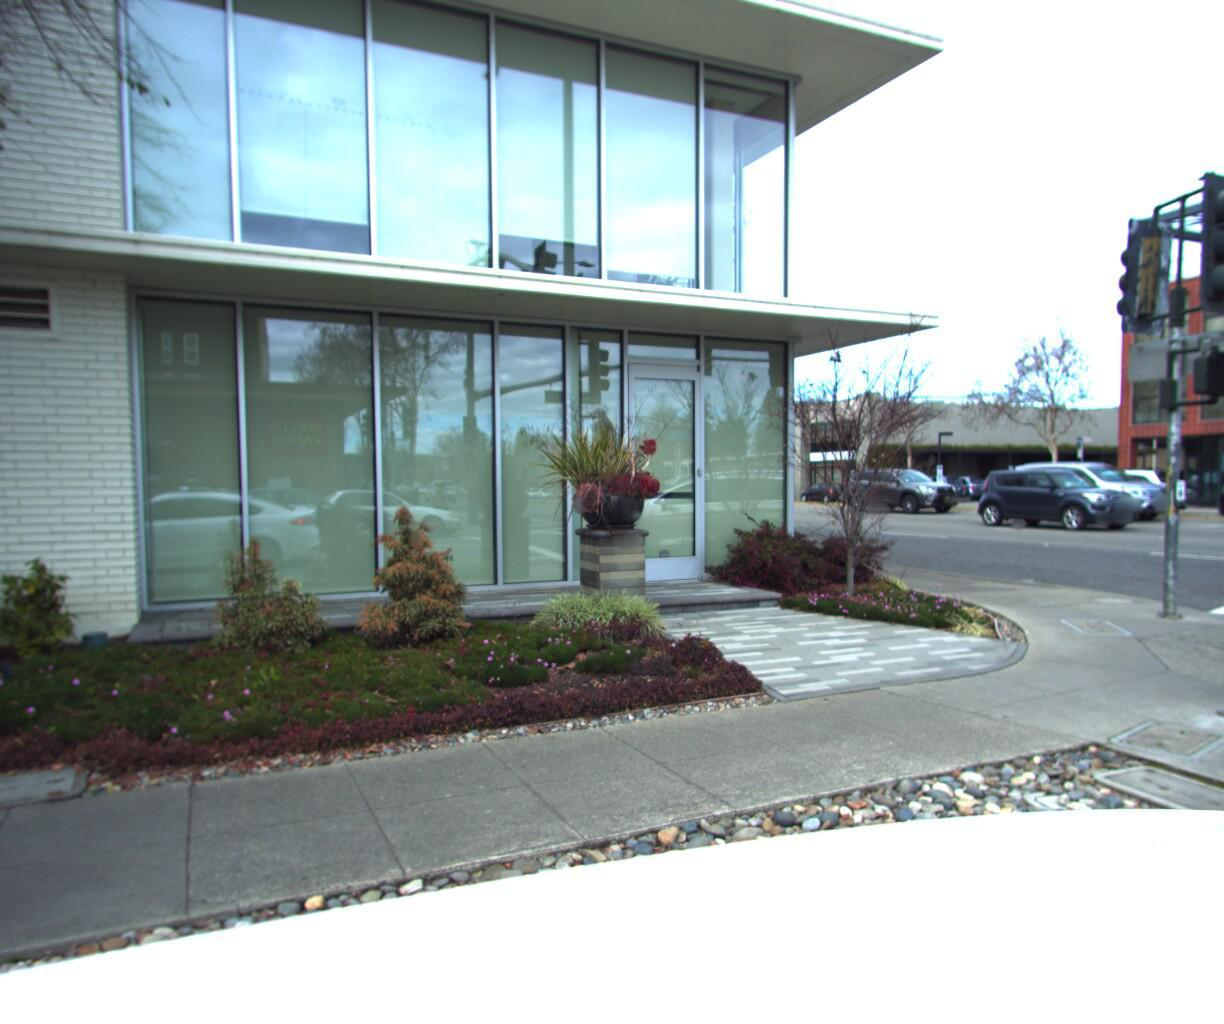car: (990, 448, 1175, 514), (974, 462, 1145, 522), (1051, 476, 1209, 526), (833, 457, 969, 508), (916, 465, 993, 492), (1205, 462, 1224, 533)
